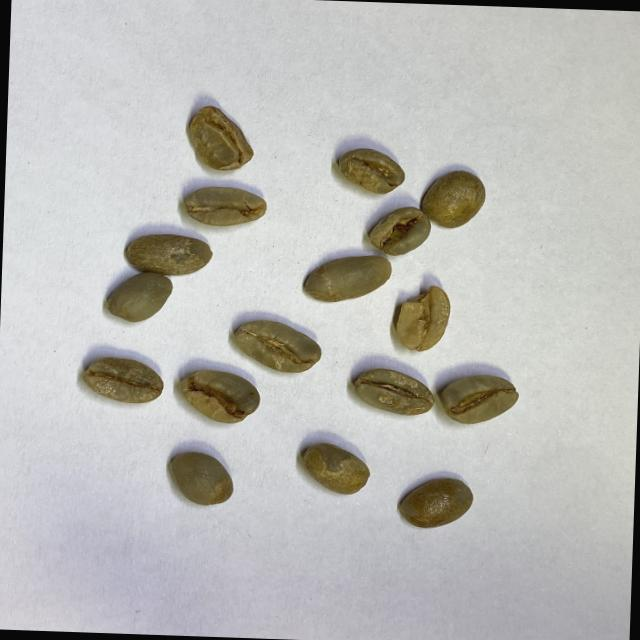bad: (232, 317, 324, 374), (177, 368, 260, 426), (187, 104, 256, 170), (352, 366, 437, 416), (394, 281, 452, 352), (335, 148, 406, 195), (368, 206, 430, 256)
good: (300, 253, 393, 306), (396, 471, 474, 532), (440, 370, 520, 428), (292, 439, 372, 496), (78, 355, 165, 405), (418, 168, 487, 230), (164, 451, 236, 507), (103, 268, 174, 323), (124, 233, 214, 276), (182, 183, 267, 228)
